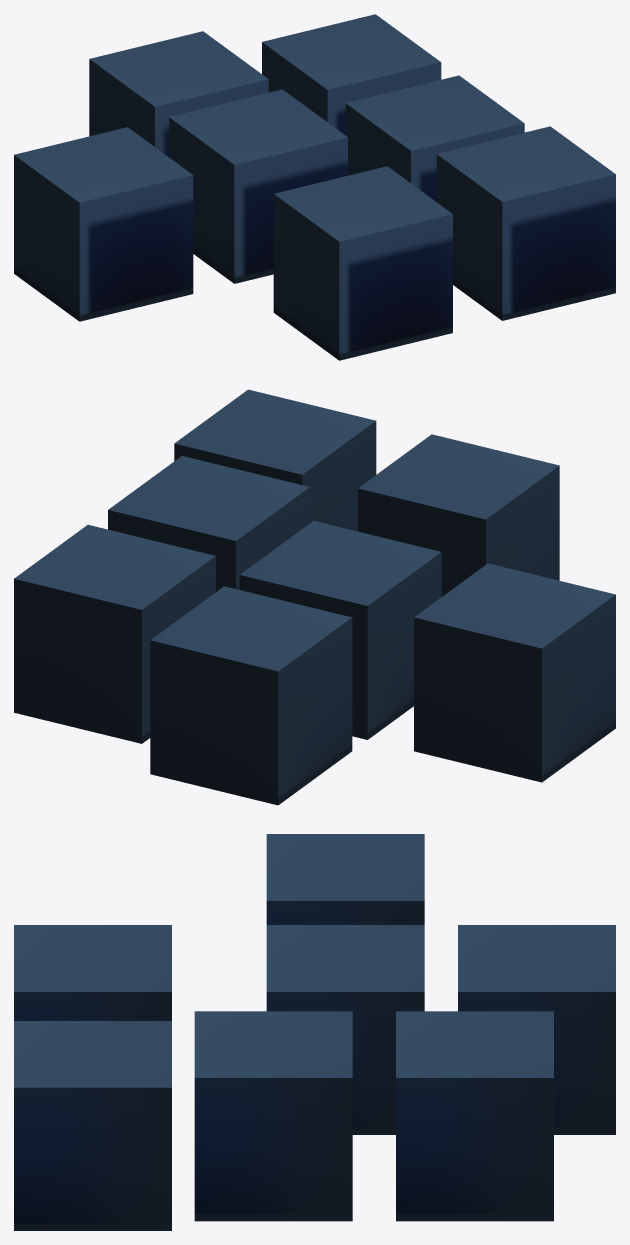
The model's file is land_center.glb.
3 views of the same model, one above another, from view 1: azimuth 30°, elevation 25°; view 2: azimuth 150°, elevation 25°; view 3: azimuth 270°, elevation 25° (orthographic). The views are drawn at different scales.
Parts seen in each view (by area): view 1: Cube; view 2: Cube; view 3: Cube.
Boxes of the visible parts, x1=… form: Cube: x1=14, y1=14, x2=615, y2=360; Cube: x1=14, y1=389, x2=615, y2=805; Cube: x1=14, y1=834, x2=615, y2=1230.
Size of the model in its own units: 1.33 by 0.3513 by 1.34.
Materials: 1 (1 with a texture image).
